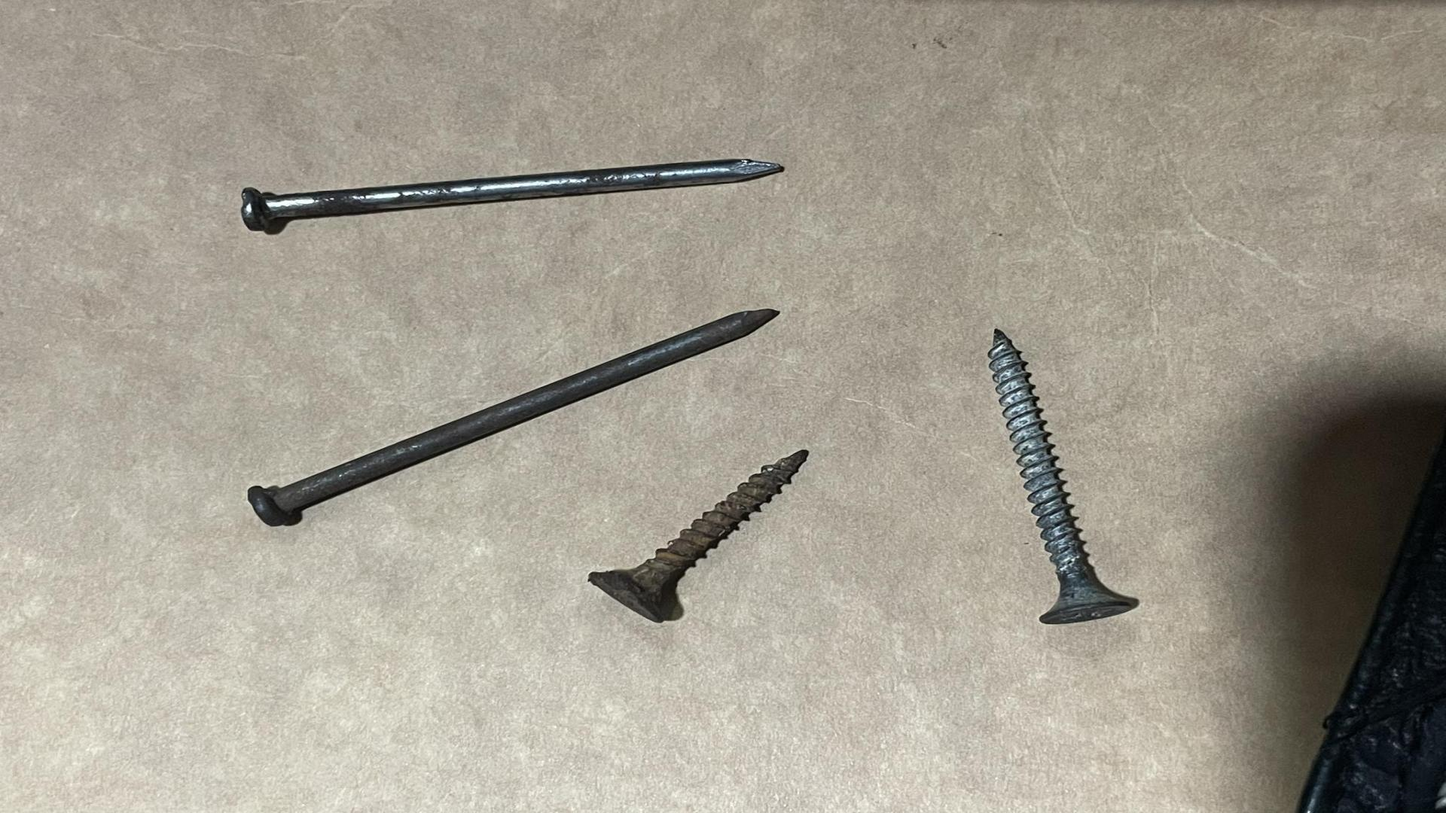nail: (157, 289, 819, 527), (205, 149, 822, 251)
screw: (948, 318, 1192, 654), (552, 443, 856, 652)
